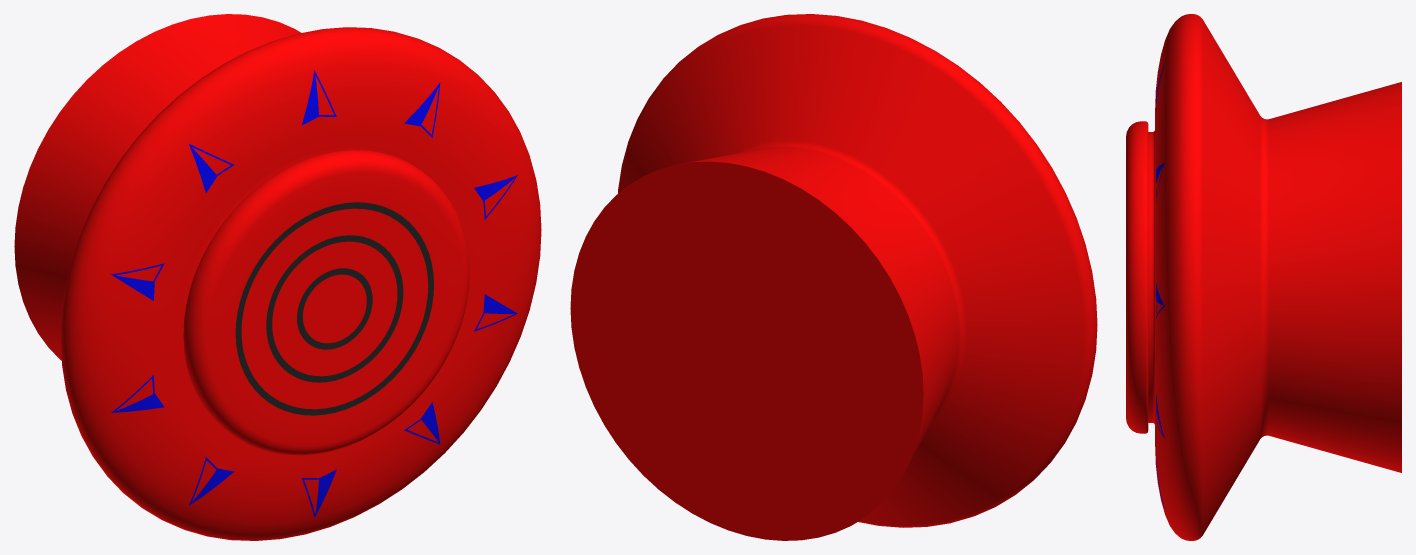
The model's file is bumper_red.glb.
3 views of the same model, side by side, from view 1: azimuth 30°, elevation 25°; view 2: azimuth 150°, elevation 25°; view 3: azimuth 270°, elevation 25° (orthographic). The views are drawn at different scales.
Visible parts, largest first — view 1: BumperRed; view 2: BumperRed; view 3: BumperRed.
Part boxes in pixels (bbox=[...]): BumperRed: bbox=[14, 14, 541, 540]; BumperRed: bbox=[570, 14, 1097, 540]; BumperRed: bbox=[1126, 14, 1401, 540].
Bounding box in the file's own units: 0.9946 × 0.9946 × 0.5208.
